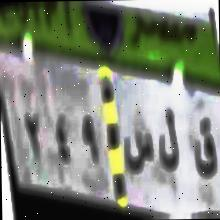2: (24, 106, 44, 171)
4: (53, 112, 70, 170)
9: (81, 109, 100, 170)
laam: (157, 102, 180, 180)
qaaf: (192, 114, 217, 180)
seen: (123, 122, 153, 178)
